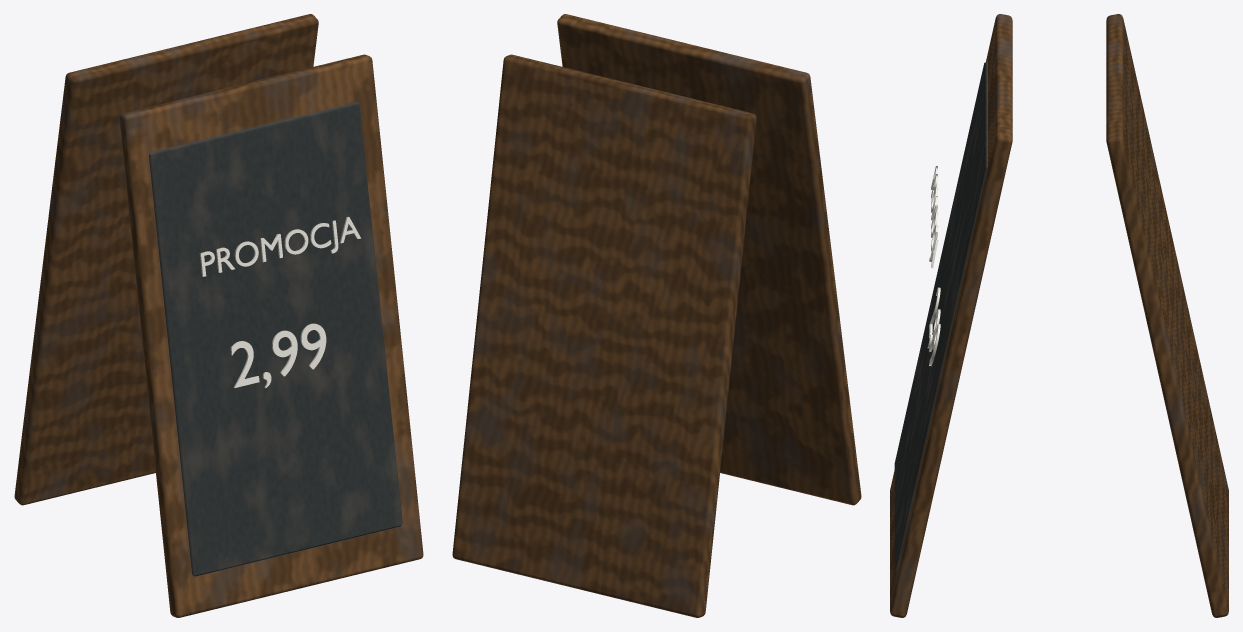
Rendered from sklep_potykacz.glb.
3 views of the same model, side by side, from view 1: azimuth 30°, elevation 25°; view 2: azimuth 150°, elevation 25°; view 3: azimuth 270°, elevation 25° (orthographic). The views are drawn at different scales.
Visible parts, largest first — view 1: Potykacz, Napisy; view 2: Potykacz; view 3: Potykacz, Napisy.
Boxes of the visible parts, left/top/right/bottom form: Potykacz: left=14, top=14, right=423, bottom=617; Napisy: left=199, top=216, right=360, bottom=388; Potykacz: left=452, top=14, right=861, bottom=617; Potykacz: left=890, top=14, right=1228, bottom=617; Napisy: left=927, top=166, right=940, bottom=365.
Size of the model in its own units: 0.52 by 0.9338 by 0.595.
2 materials, 1 textured.
